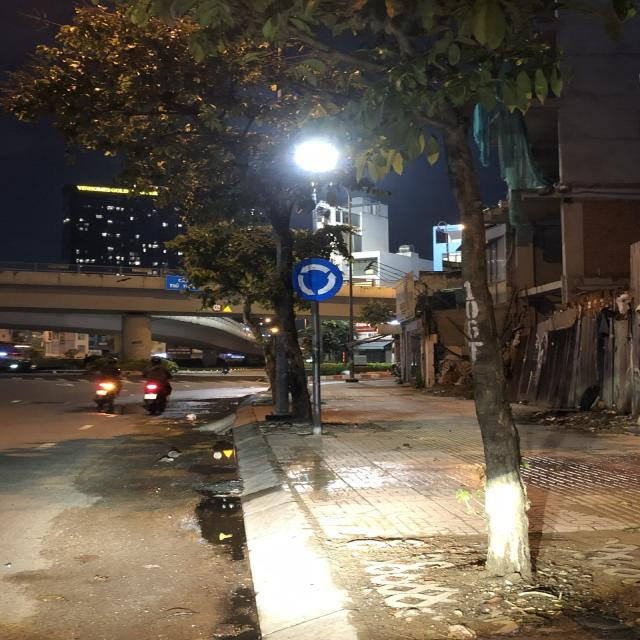Bien bao noi giao nhau chay theo vong xuyen: (289, 257, 347, 302)
